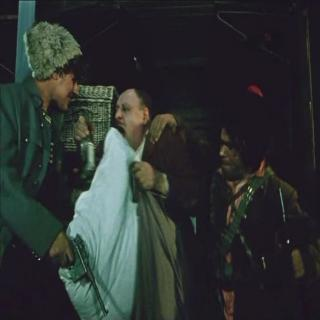gun: (47, 232, 109, 318)
